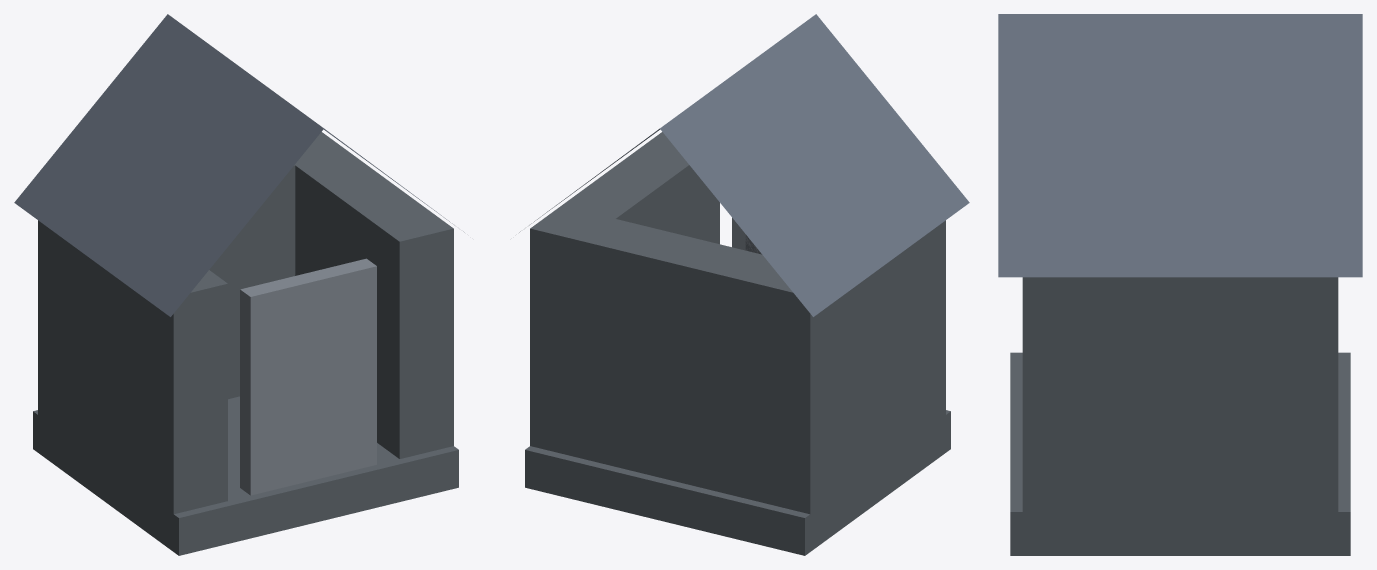
The model's file is haunted_crypt_entrance.glb.
3 renders of one model, left to right at view 1: azimuth 30°, elevation 25°; view 2: azimuth 150°, elevation 25°; view 3: azimuth 270°, elevation 25°, orthographic. The views are drawn at different scales.
Visible parts, largest first — view 1: Haunted_Crypt_Entrance; view 2: Haunted_Crypt_Entrance; view 3: Haunted_Crypt_Entrance.
Part boxes in pixels (x1,y1,x2,y2): Haunted_Crypt_Entrance: (14,14,464,555); Haunted_Crypt_Entrance: (519,14,969,555); Haunted_Crypt_Entrance: (998,14,1362,555).
Size of the model in its own units: 3.4 by 4.2 by 3.
